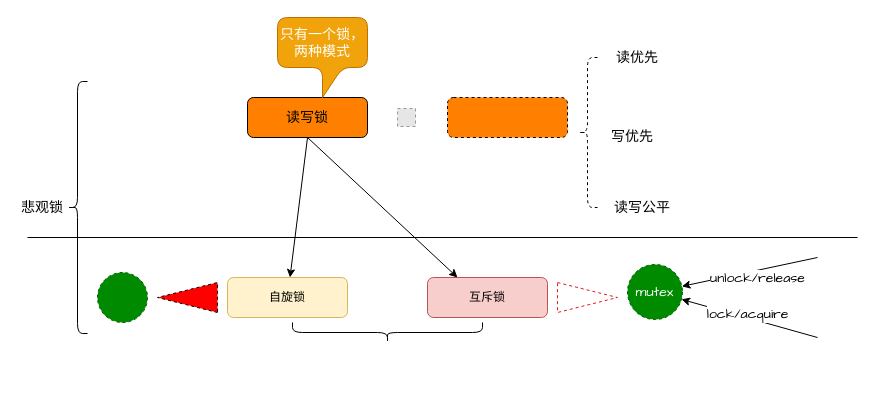
Some shapes in this 876 by 394 pixel diagram are drawn without their labels. Grey dashed boxes stand in for pictures. The shapes that lost their labels are listed below. From the top down, each one's centre as x and y in pixels, then its label:
point (507, 117): 共享独占锁
point (122, 297): CAS
point (387, 332): 在上下文切换和 busy-waiting 之间 寻找平衡
